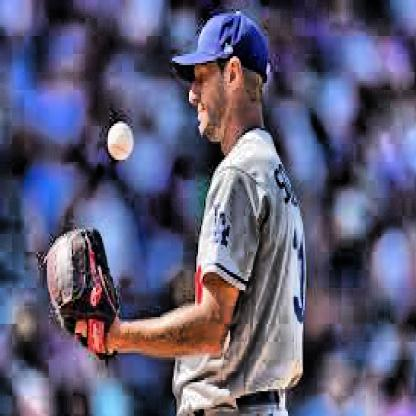baseball: (106, 122, 134, 162)
